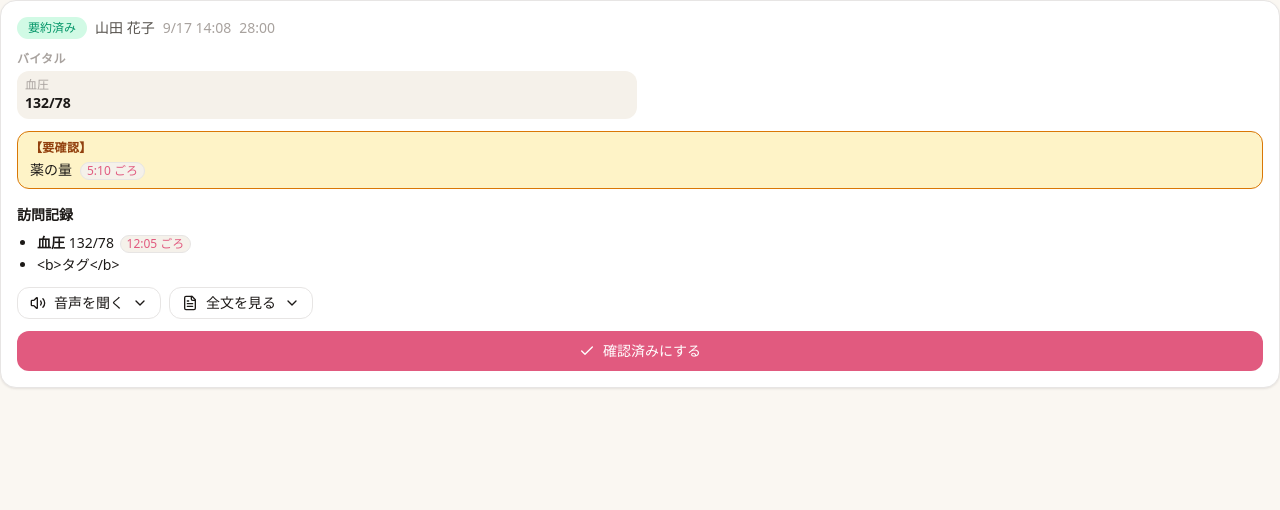
Test: VisitRecordCard › v2: 時刻を押すと音声を開く
This screenshot has width=1280, height=510.
Click the button with aria-label "12:05 ごろから聞く". click: {"x": 155, "y": 244}
box: [120, 235, 191, 253]
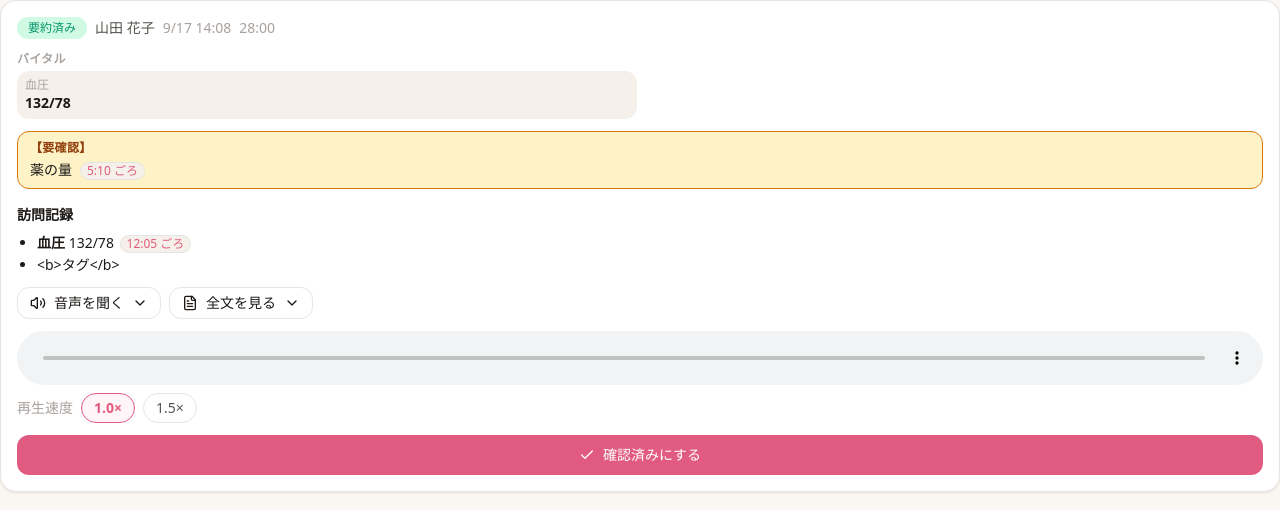
Expected: the text "お使いの端末では音声を再生できません。" is shown, [17, 331, 1263, 385]
